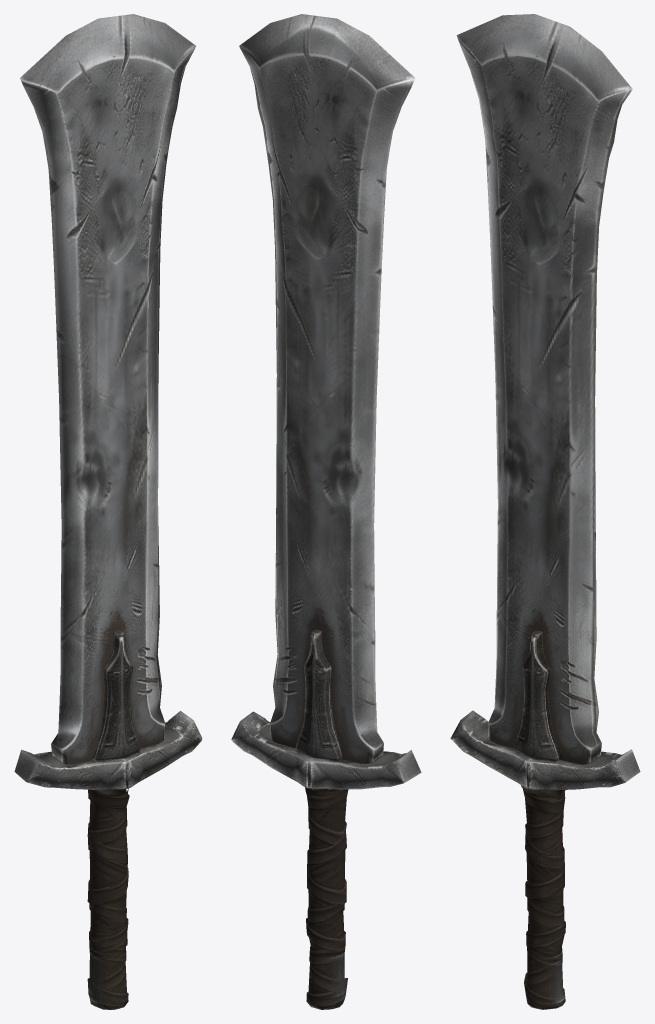
Rendered from barbarian_greatsword.glb.
3 views of the same model, side by side, from view 1: azimuth 30°, elevation 25°; view 2: azimuth 150°, elevation 25°; view 3: azimuth 330°, elevation 25° (orthographic).
Visible parts, largest first — view 1: Mesh_0; view 2: Mesh_0; view 3: Mesh_0.
Part boxes in pixels (box(x1,y1,x2,y2)): Mesh_0: box(14, 14, 202, 1009); Mesh_0: box(231, 14, 421, 1009); Mesh_0: box(450, 14, 640, 1009).
Size of the model in its own units: 0.3575 by 1.9 by 0.1256.
Materials: 1 (1 with a texture image).
